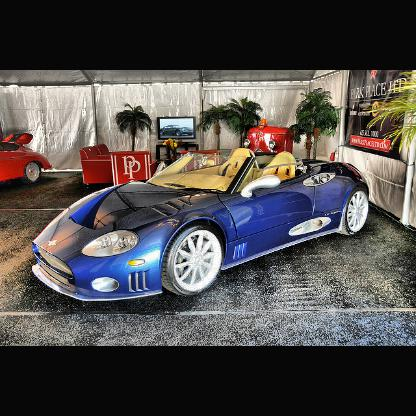Spyker C8 Convertible 2009: (30, 148, 370, 305)
